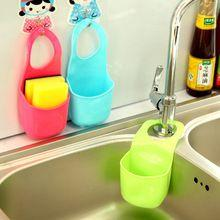HDPE: (120, 119, 187, 209), (18, 28, 70, 140), (65, 18, 114, 127)
PETE: (185, 0, 217, 97)
